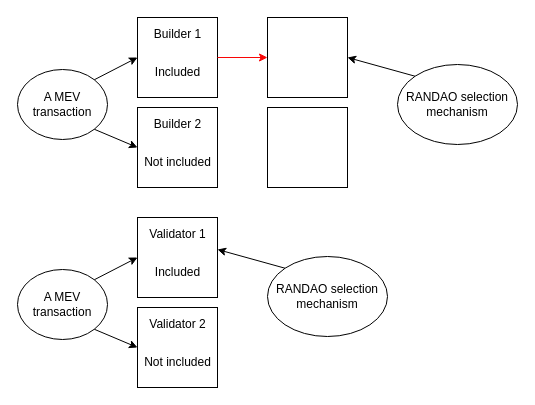
Some shapes in this 535 by 405 pixel diagram are drawn without their labels. Each missing label, with the centre of its shape:
"Proposer 1" goes at point 307,57.
"Proposer 2" goes at point 307,147.
